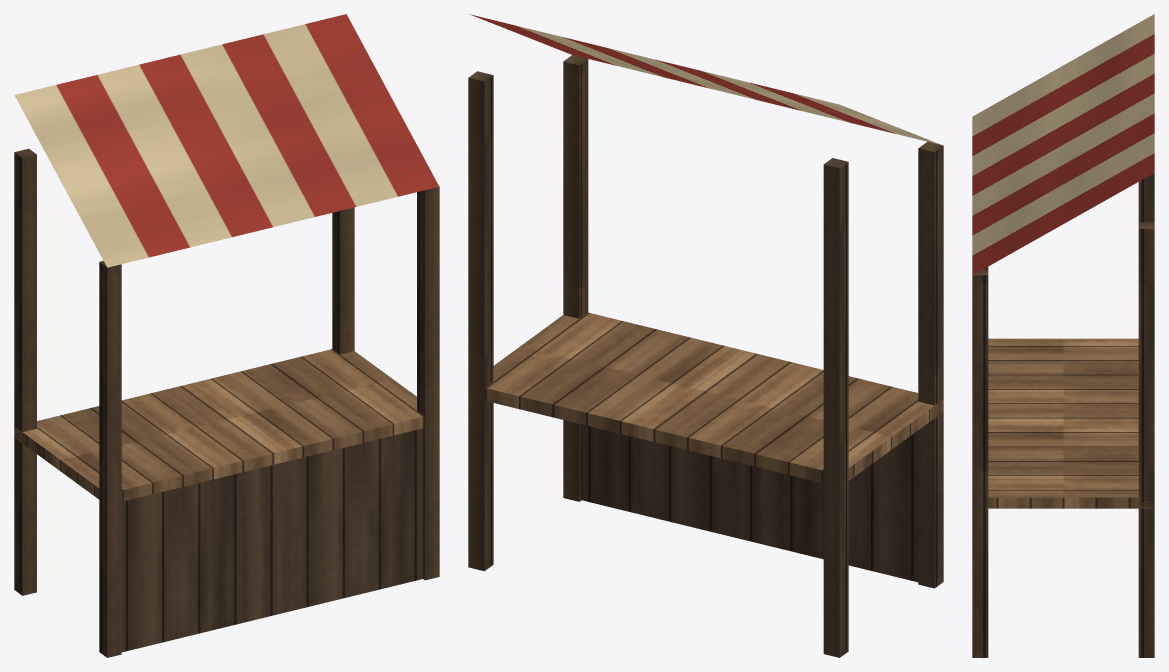
Rendered from Stall_Empty_LOD2.gltf.
3 renders of one model, left to right at view 1: azimuth 30°, elevation 25°; view 2: azimuth 150°, elevation 25°; view 3: azimuth 270°, elevation 25°, orthographic. The views are drawn at different scales.
Visible parts, largest first — view 1: Stall_Empty_LOD2; view 2: Stall_Empty_LOD2; view 3: Stall_Empty_LOD2.
Boxes of the visible parts, bbox=[...] form: Stall_Empty_LOD2: bbox=[14, 14, 439, 657]; Stall_Empty_LOD2: bbox=[468, 14, 943, 657]; Stall_Empty_LOD2: bbox=[972, 14, 1154, 657].
Bounding box in the file's own units: 1.84 × 2.62 × 0.8913.
Materials: 3 (3 with a texture image).
